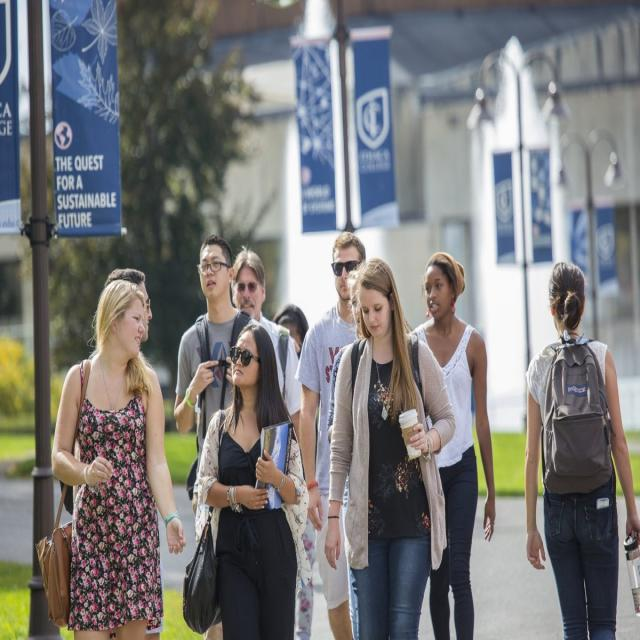body: (30, 272, 189, 639), (322, 254, 458, 639), (521, 258, 640, 640), (179, 319, 311, 639), (403, 249, 497, 640), (293, 229, 368, 640), (172, 232, 251, 462), (271, 301, 318, 640), (227, 245, 304, 450), (326, 266, 365, 639), (88, 266, 154, 362)
